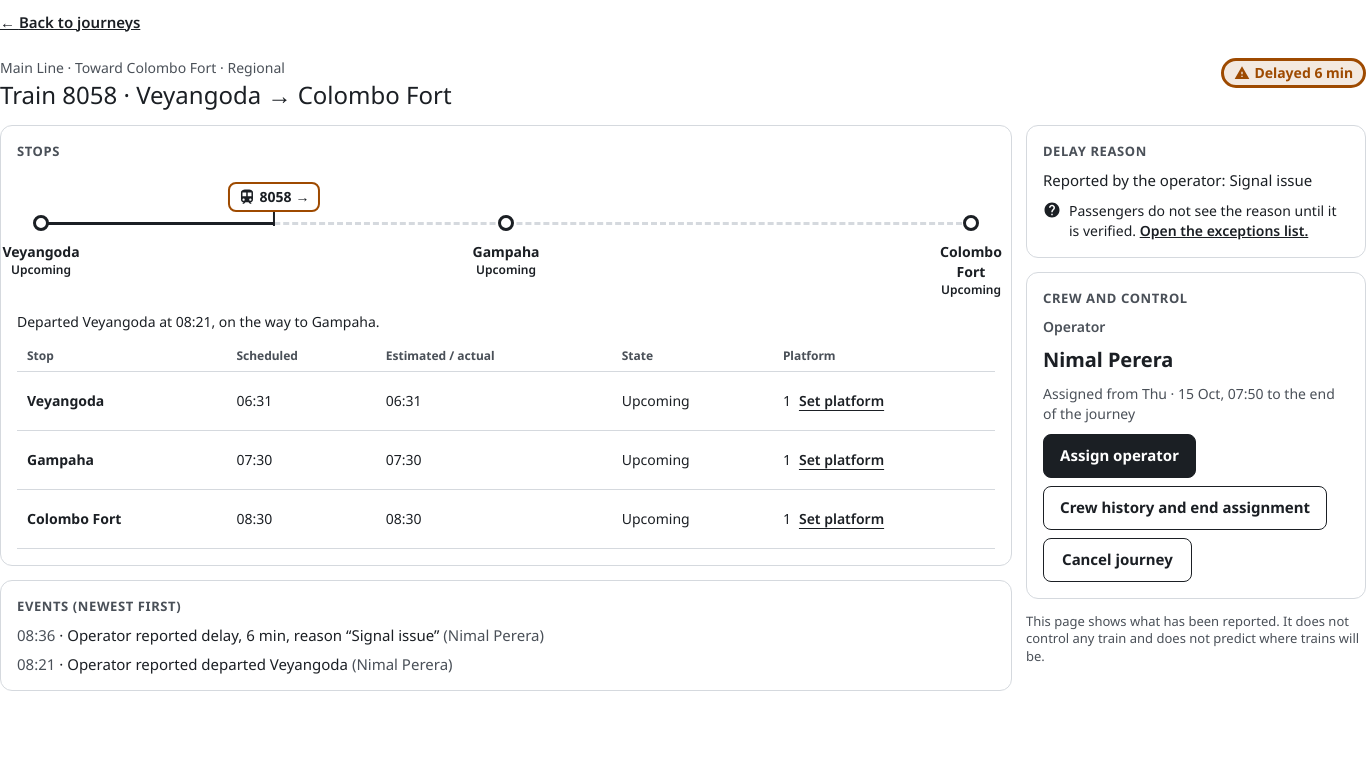
Cancel journey (just that day's run) › needs a reason and then sends it for this journey
Click the button "Cancel journey" at (1117, 560), box top-left (1043, 538), bottom-right (1192, 582)
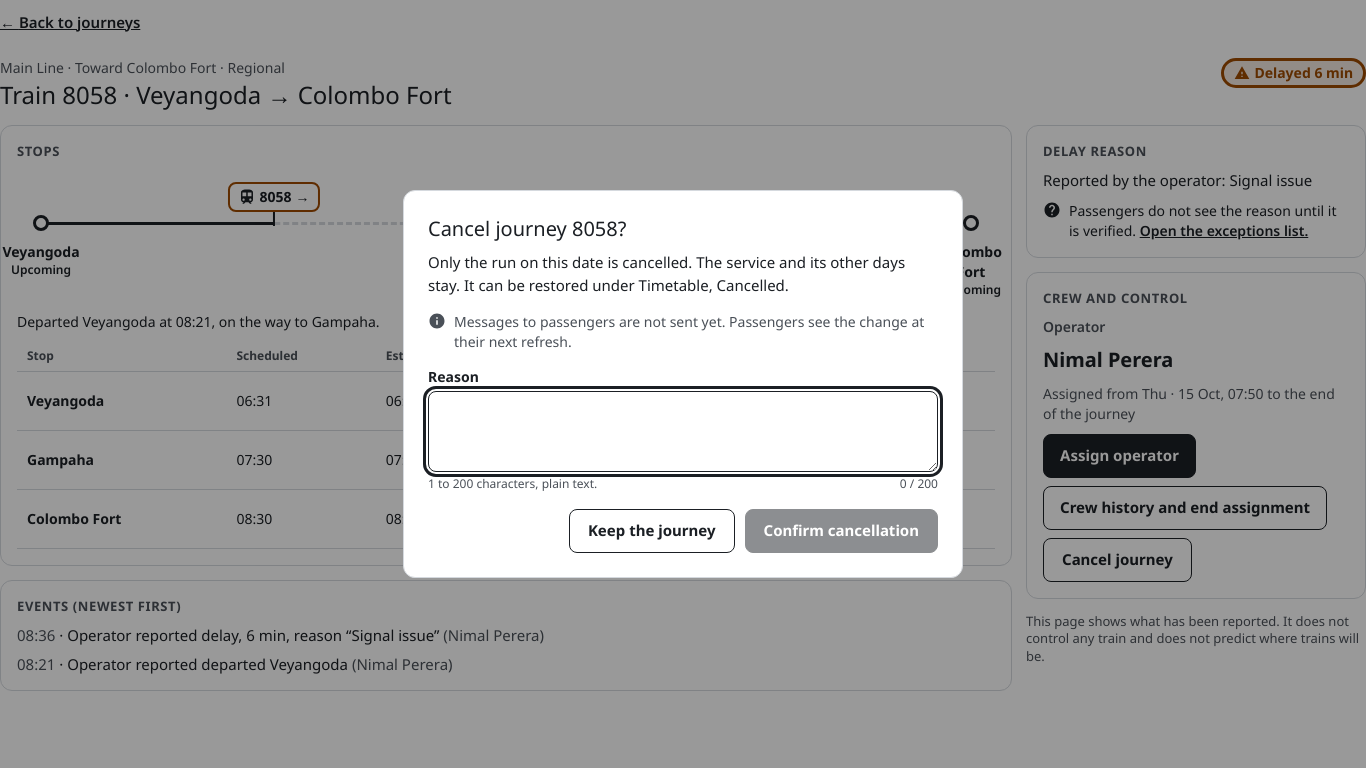
Expected: the button "Confirm cancellation" is disabled, top-left (744, 509), bottom-right (938, 553)
Type "Rolling stock not available" into the text box labelled "Reason" at (683, 432), box top-left (428, 391), bottom-right (938, 472)
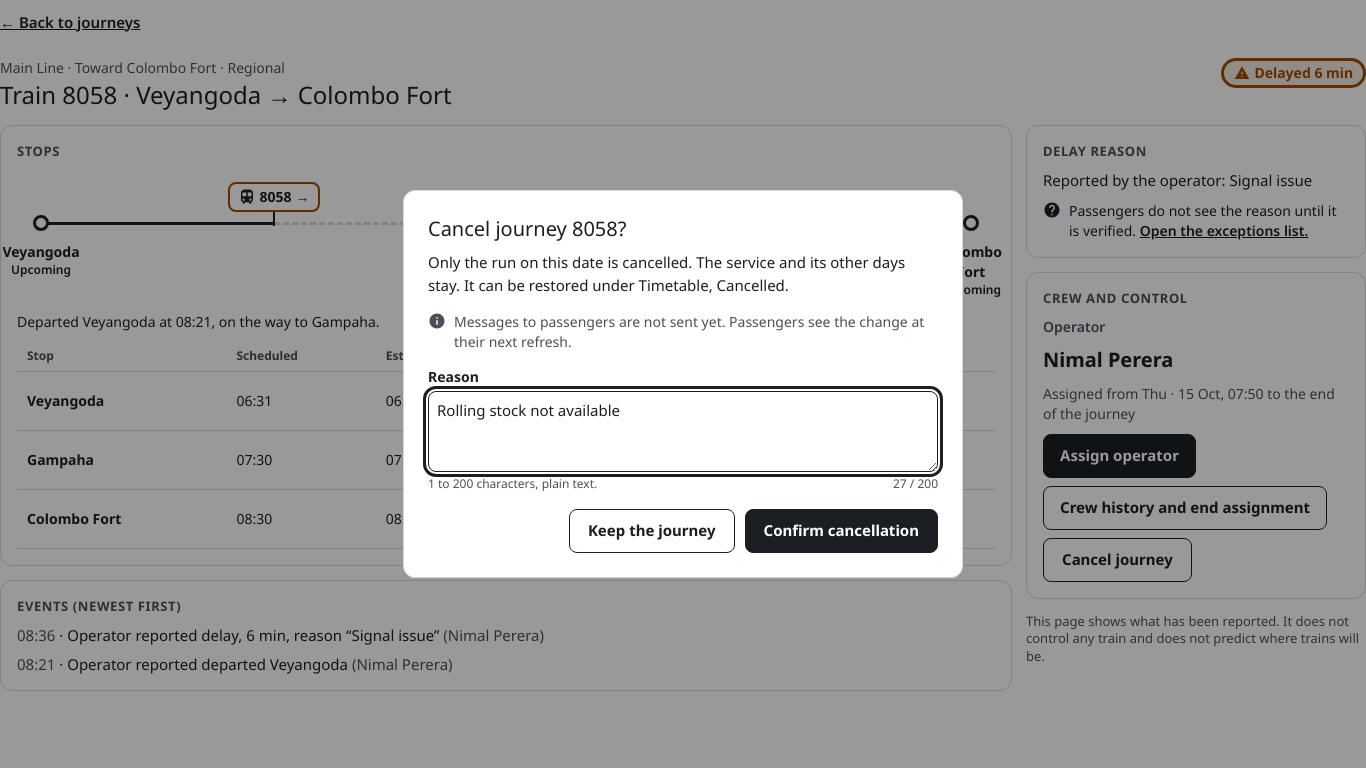
Click the button "Confirm cancellation" at (841, 531), box top-left (744, 509), bottom-right (938, 553)
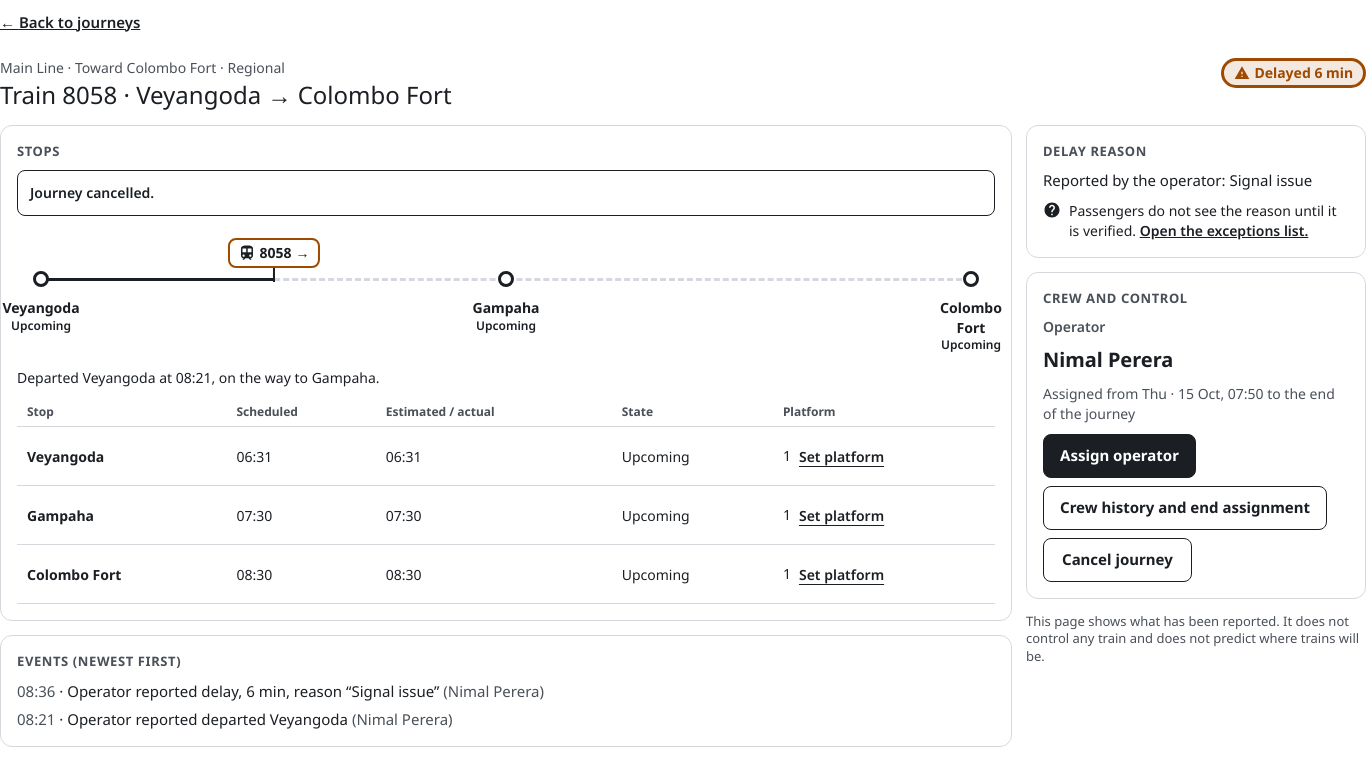
Expected: the text "Journey cancelled." is shown, top-left (17, 170), bottom-right (995, 216)
